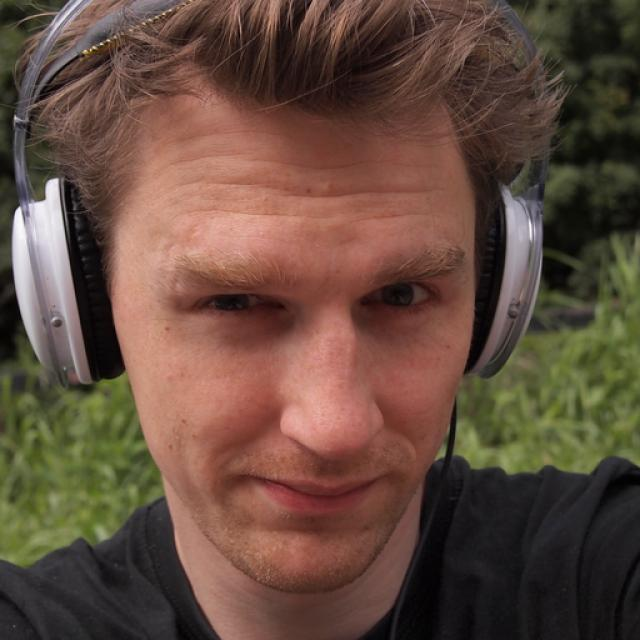content: (120, 107, 471, 592)
